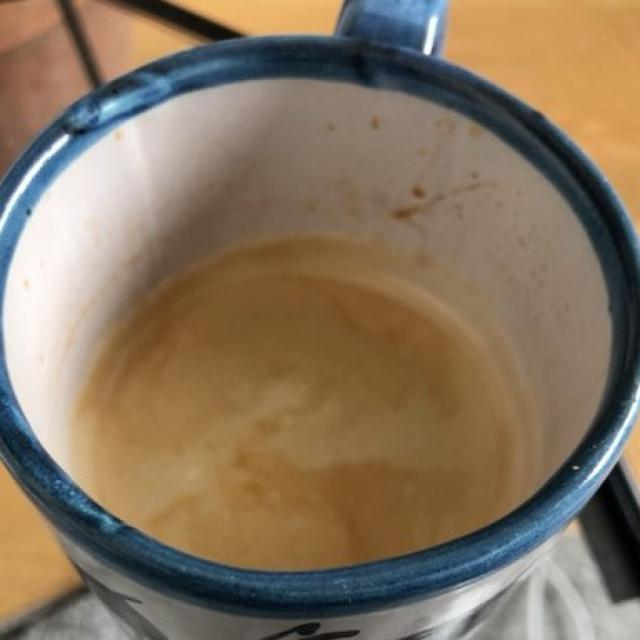coffee-with-caffeine: (76, 256, 505, 577)
